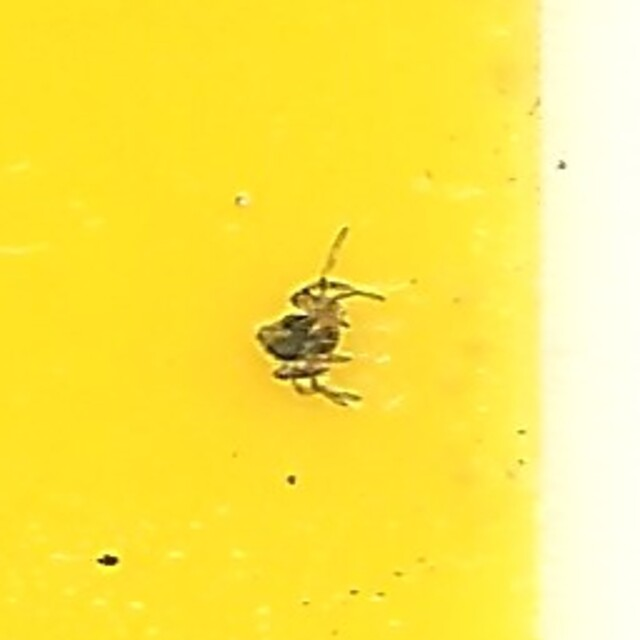Araneae: (250, 225, 390, 415)
